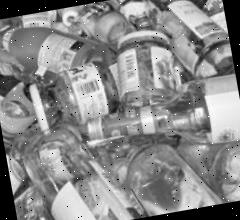glass: (22, 117, 134, 220), (118, 132, 234, 220), (0, 2, 114, 89), (73, 96, 211, 156), (141, 0, 234, 86), (106, 24, 182, 114), (49, 59, 126, 126)
